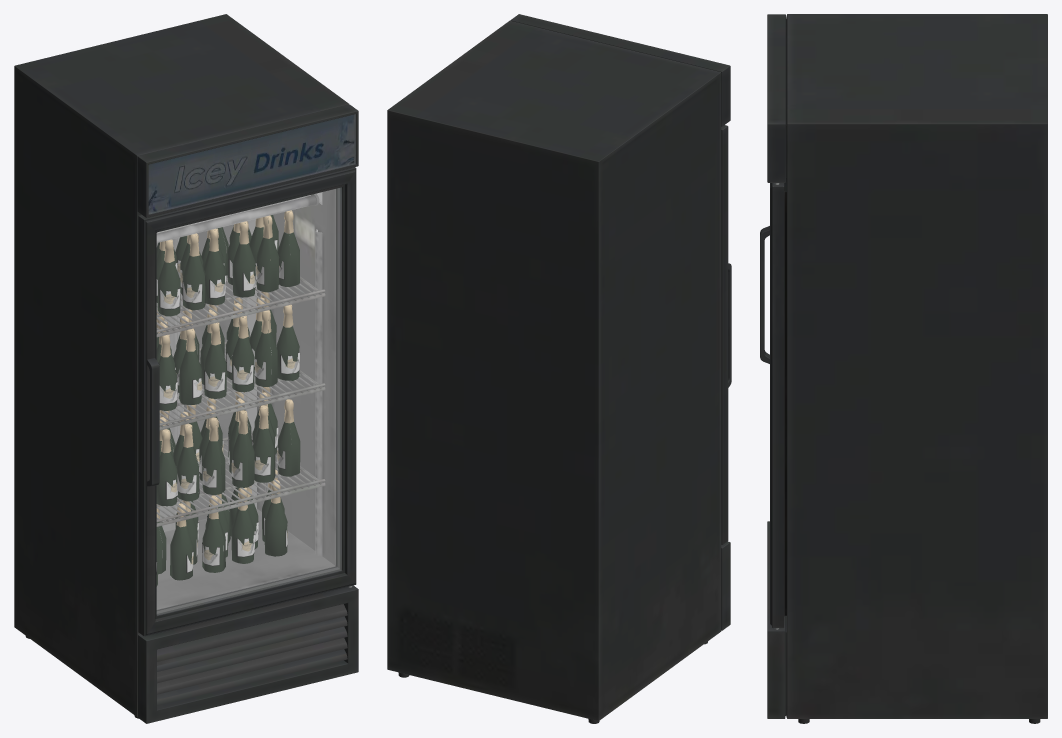
Rendered from props3p.glb.
3 renders of one model, left to right at view 1: azimuth 30°, elevation 25°; view 2: azimuth 150°, elevation 25°; view 3: azimuth 270°, elevation 25°, orthographic. The views are drawn at different scales.
Visible parts, largest first — view 1: FridgeCase, FridgeGlass, FridgeInterior, ChampagneBottles, FridgeDoor, FridgeDoorInner; view 2: FridgeCase, FridgeDoor; view 3: FridgeCase, FridgeDoor.
Boxes of the visible parts, box(x1,y1,x2,y2) form: FridgeCase: box(14, 14, 358, 723); FridgeGlass: box(157, 188, 339, 613); FridgeInterior: box(148, 114, 355, 609); ChampagneBottles: box(156, 210, 300, 586); FridgeDoor: box(138, 167, 356, 636); FridgeDoorInner: box(156, 187, 341, 615); FridgeCase: box(387, 14, 730, 723); FridgeDoor: box(721, 125, 731, 544); FridgeCase: box(767, 14, 1047, 723); FridgeDoor: box(760, 179, 786, 628).
Bounding box in the file's own units: 0.8544 × 2.18 × 0.9442.
9 materials, 4 textured.
